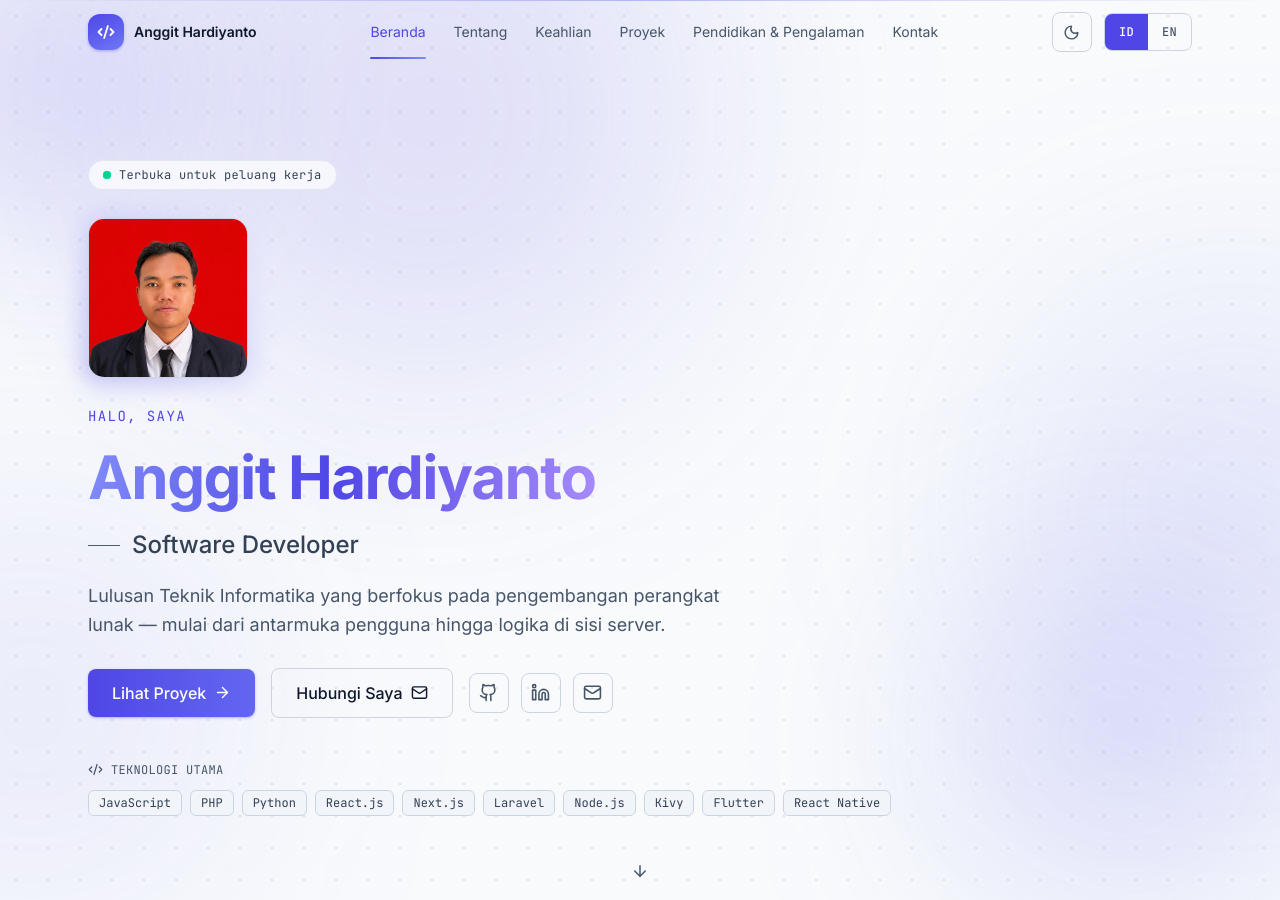
Navigasi › memperbarui label navigasi saat bahasa diganti
Expected: the button "Proyek" is shown, x1=608 y1=14 x2=677 y2=50
Click the button with aria-label "English": (1170, 32) x1=1148 y1=14 x2=1191 y2=50
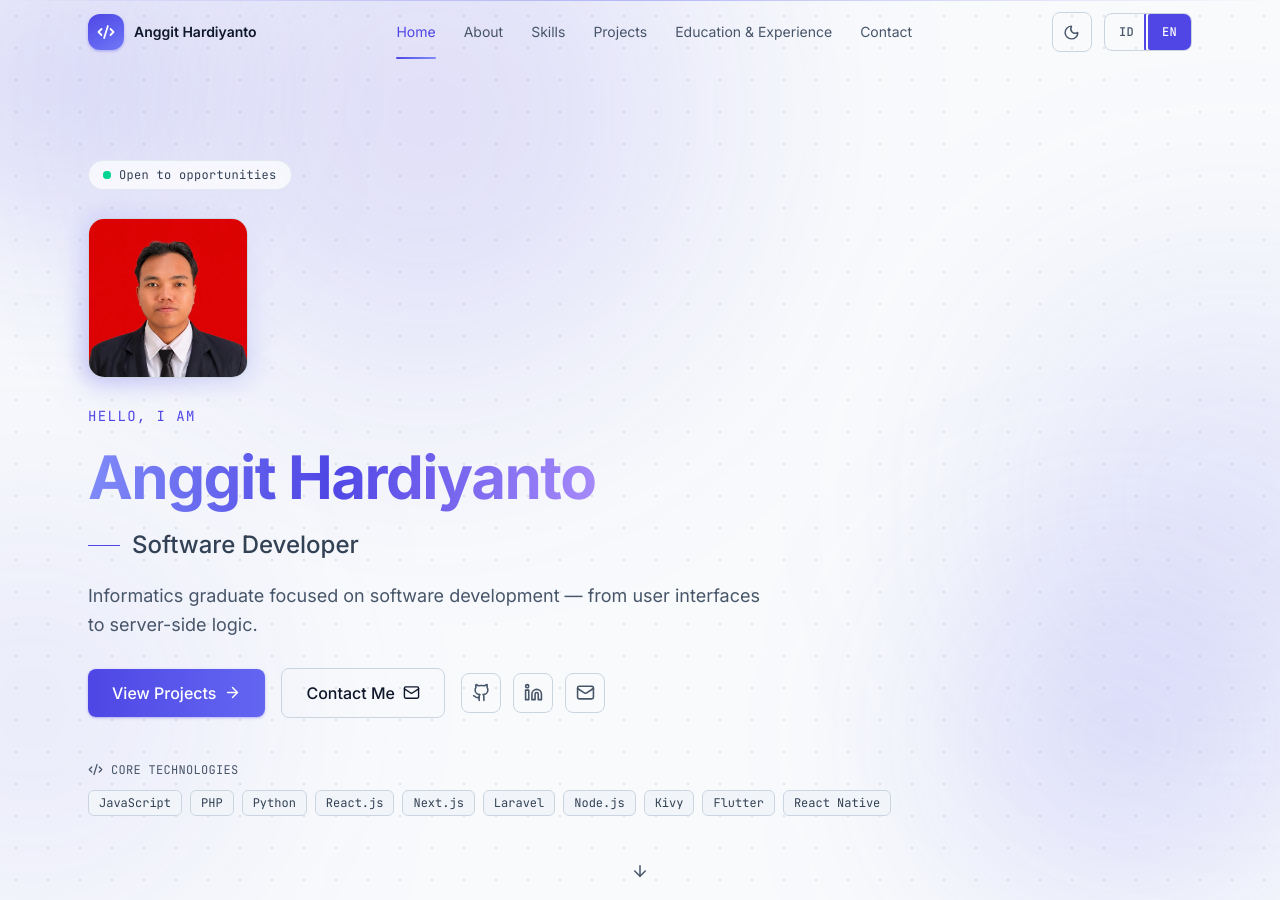
Expected: the button "Projects" is shown, x1=581 y1=14 x2=659 y2=50
Expected: the button "Contact" is shown, x1=848 y1=14 x2=924 y2=50
